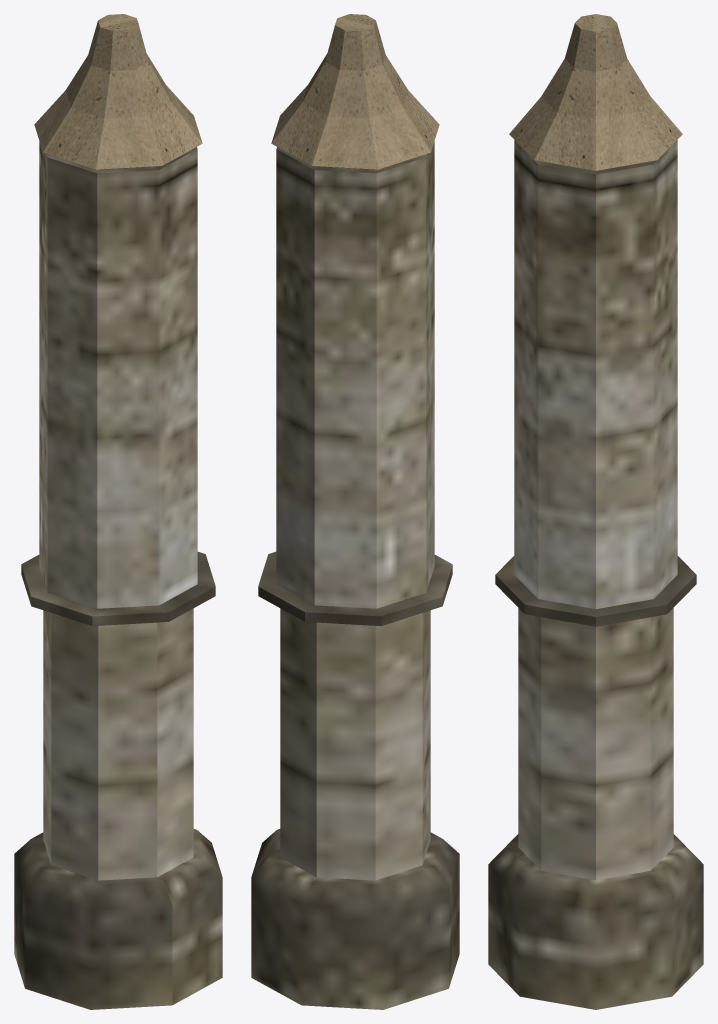
The model's file is castle_column.fbx.
The picture shows the model from 3 angles, left to right: view 1: azimuth 30°, elevation 25°; view 2: azimuth 150°, elevation 25°; view 3: azimuth 270°, elevation 25°; orthographic projection.
Parts seen in each view (by area): view 1: pasted__edge-column-3; view 2: pasted__edge-column-3; view 3: pasted__edge-column-3.
Part boxes in pixels (x1,y1,x2,y2): pasted__edge-column-3: (14,14,222,1009); pasted__edge-column-3: (251,14,459,1009); pasted__edge-column-3: (488,14,703,1009).
Bounding box in the file's own units: 94.75 × 457 × 94.75.
Materials: 2 (2 with a texture image).
